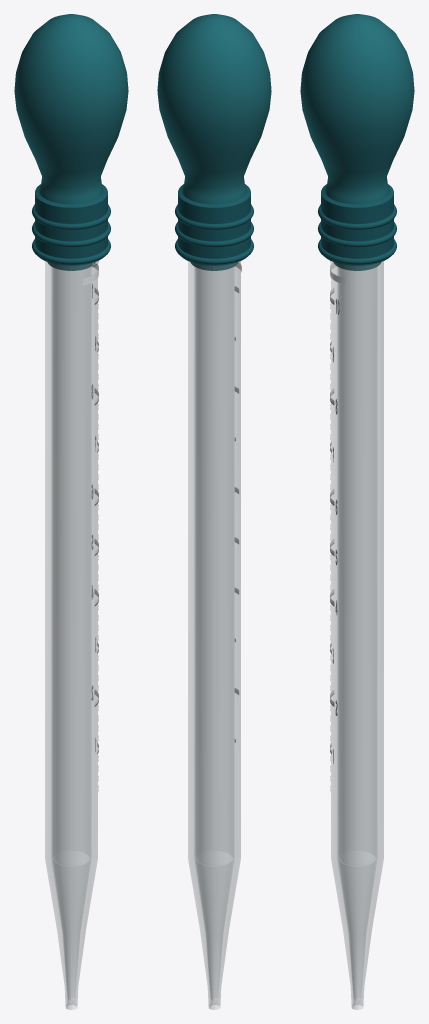
The model's file is pipette_water.glb.
3 renders of one model, left to right at view 1: azimuth 90°, elevation 25°; view 2: azimuth 150°, elevation 25°; view 3: azimuth 270°, elevation 25°, orthographic.
Parts seen in each view (by area): view 1: GlassBody.004, LiquidStem.001, PipetteBulb.001, PipetteCollar.001, LiquidTip.001, PipetteGraduations.001, DetailV2_PipGrip_PipetteWater_Root_0, DetailV2_PipGrip_PipetteWater_Root_1, DetailV2_PipGrip_PipetteWater_Root_2; view 2: GlassBody.004, LiquidStem.001, PipetteBulb.001, PipetteCollar.001, LiquidTip.001, DetailV2_PipGrip_PipetteWater_Root_0, DetailV2_PipGrip_PipetteWater_Root_1, DetailV2_PipGrip_PipetteWater_Root_2; view 3: GlassBody.004, LiquidStem.001, PipetteBulb.001, PipetteCollar.001, LiquidTip.001, PipetteGraduations.001, DetailV2_PipGrip_PipetteWater_Root_0, DetailV2_PipGrip_PipetteWater_Root_1, DetailV2_PipGrip_PipetteWater_Root_2.
Part boxes in pixels (box(x1,y1,x2,y2)): GlassBody.004: box(45, 261, 97, 1009); LiquidStem.001: box(53, 267, 89, 865); PipetteBulb.001: box(14, 14, 128, 204); PipetteCollar.001: box(35, 184, 107, 265); LiquidTip.001: box(53, 858, 89, 1000); PipetteGraduations.001: box(83, 261, 98, 790); DetailV2_PipGrip_PipetteWater_Root_0: box(32, 239, 110, 264); DetailV2_PipGrip_PipetteWater_Root_1: box(32, 222, 110, 247); DetailV2_PipGrip_PipetteWater_Root_2: box(32, 204, 110, 229); GlassBody.004: box(188, 261, 240, 1009); LiquidStem.001: box(196, 267, 232, 865); PipetteBulb.001: box(157, 14, 271, 204); PipetteCollar.001: box(178, 184, 250, 265); LiquidTip.001: box(196, 858, 232, 1000); DetailV2_PipGrip_PipetteWater_Root_0: box(175, 239, 253, 264); DetailV2_PipGrip_PipetteWater_Root_1: box(175, 222, 253, 247); DetailV2_PipGrip_PipetteWater_Root_2: box(175, 204, 253, 229); GlassBody.004: box(331, 261, 383, 1009); LiquidStem.001: box(339, 267, 375, 865); PipetteBulb.001: box(300, 14, 414, 204); PipetteCollar.001: box(321, 184, 393, 265); LiquidTip.001: box(339, 858, 375, 1000); PipetteGraduations.001: box(330, 261, 345, 790); DetailV2_PipGrip_PipetteWater_Root_0: box(318, 239, 396, 264); DetailV2_PipGrip_PipetteWater_Root_1: box(318, 222, 396, 247); DetailV2_PipGrip_PipetteWater_Root_2: box(318, 204, 396, 229).
Bounding box in the file's own units: 0.025 × 0.2395 × 0.025.
Materials: 5 (1 with a texture image).
